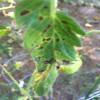Tomato Septoria leaf spot: (13, 0, 87, 96)
